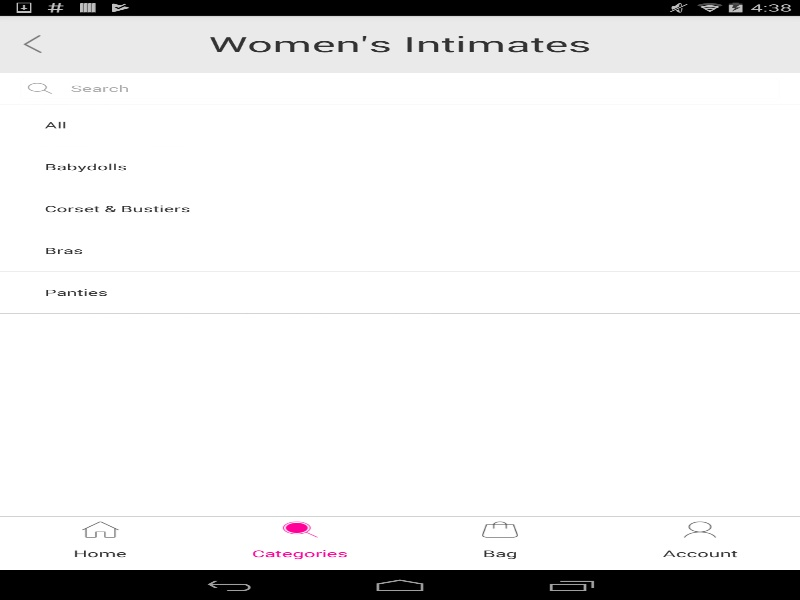Input: (70, 34, 764, 53), (57, 79, 777, 97)
